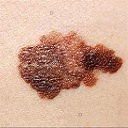Melanoma: (20, 38, 118, 91)
